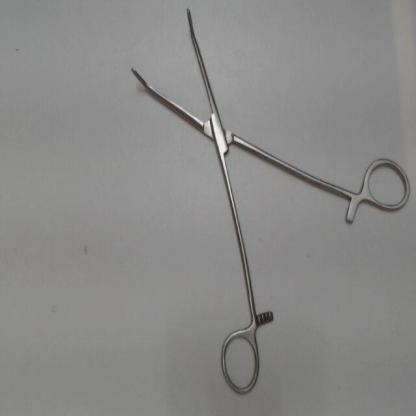Lahey Forceps: (122, 2, 414, 402)
